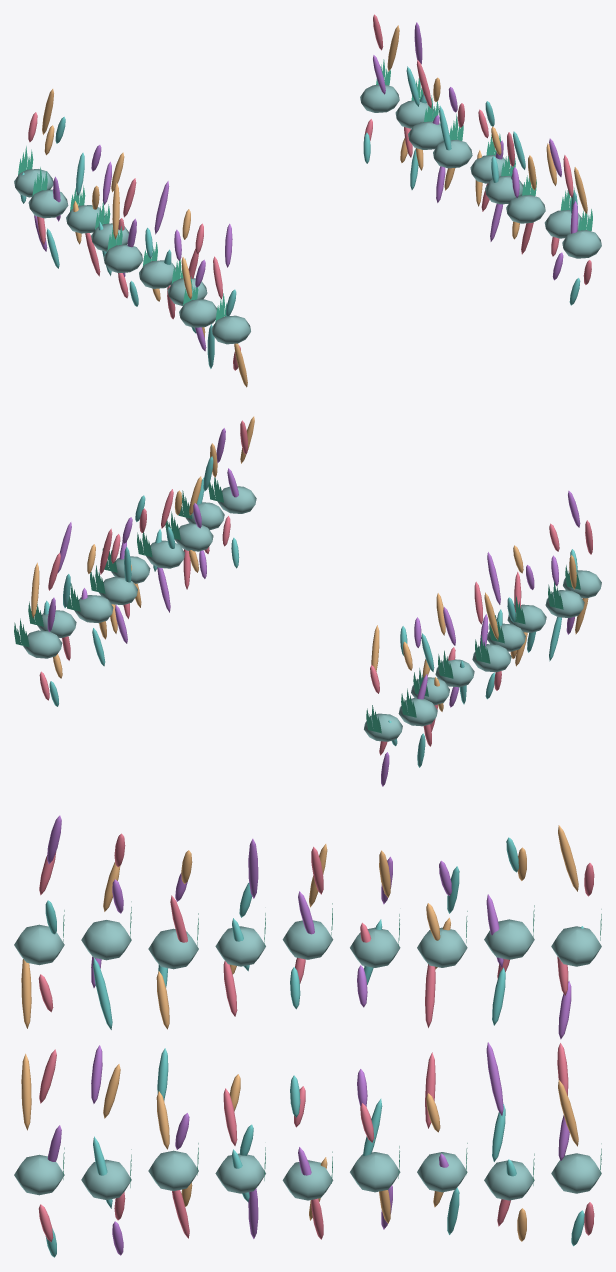
Rendered from reef-olY_mVxd.glb.
3 renders of one model, top to bottom at view 1: azimuth 30°, elevation 25°; view 2: azimuth 150°, elevation 25°; view 3: azimuth 270°, elevation 25°, orthographic. The views are drawn at different scales.
Visible parts, largest first — view 1: ReefRock, ReefRock.011, ReefRock.009, ReefRock.004, ReefRock.001, ReefRock.017, ReefRock.014, ReefRock.007, ReefRock.003, ReefRock.015, ReefRock.006, ReefRock.012 (+6 smaller); view 2: ReefRock.017, ReefRock.015, ReefRock.011, ReefRock.014, ReefRock.012, ReefRock.009, ReefRock.001, ReefRock.008, ReefRock.007, ReefRock.004, ReefRock.005, ReefRock.016 (+6 smaller); view 3: ReefRock.001, ReefRock.011, ReefRock.008, ReefRock.017, ReefRock.014, ReefRock, ReefRock.009, ReefRock.007, ReefRock.015, ReefRock.006, ReefRock.012, ReefRock.002 (+10 smaller).
Part boxes in pixels (x1,y1,x2,y2): ReefRock: [211, 315, 250, 344]; ReefRock.011: [506, 195, 545, 223]; ReefRock.009: [562, 230, 601, 258]; ReefRock.004: [103, 244, 143, 272]; ReefRock.001: [179, 299, 217, 327]; ReefRock.017: [360, 84, 399, 112]; ReefRock.014: [433, 139, 472, 168]; ReefRock.007: [28, 189, 68, 218]; ReefRock.003: [139, 260, 175, 288]; ReefRock.015: [408, 121, 443, 149]; ReefRock.006: [66, 205, 104, 233]; ReefRock.012: [485, 175, 523, 204]; ReefRock.017: [23, 630, 62, 658]; ReefRock.015: [74, 595, 113, 623]; ReefRock.011: [174, 523, 213, 551]; ReefRock.014: [99, 577, 137, 604]; ReefRock.012: [146, 540, 184, 568]; ReefRock.009: [217, 486, 256, 513]; ReefRock.001: [545, 590, 584, 617]; ReefRock.008: [364, 713, 402, 741]; ReefRock.007: [398, 698, 437, 726]; ReefRock.004: [472, 644, 511, 672]; ReefRock.005: [435, 659, 474, 687]; ReefRock.016: [37, 610, 76, 637]; ReefRock.001: [81, 920, 131, 960]; ReefRock.011: [148, 1150, 198, 1191]; ReefRock.008: [551, 926, 601, 966]; ReefRock.017: [551, 1153, 601, 1193]; ReefRock.014: [350, 1152, 400, 1192]; ReefRock: [14, 924, 64, 965]; ReefRock.009: [14, 1154, 64, 1195]; ReefRock.007: [484, 919, 534, 959]; ReefRock.015: [417, 1152, 467, 1192]; ReefRock.006: [417, 927, 467, 967]; ReefRock.012: [215, 1153, 265, 1193]; ReefRock.002: [148, 928, 198, 969].
Size of the model in its own units: 17.35 by 6.78 by 16.2.
